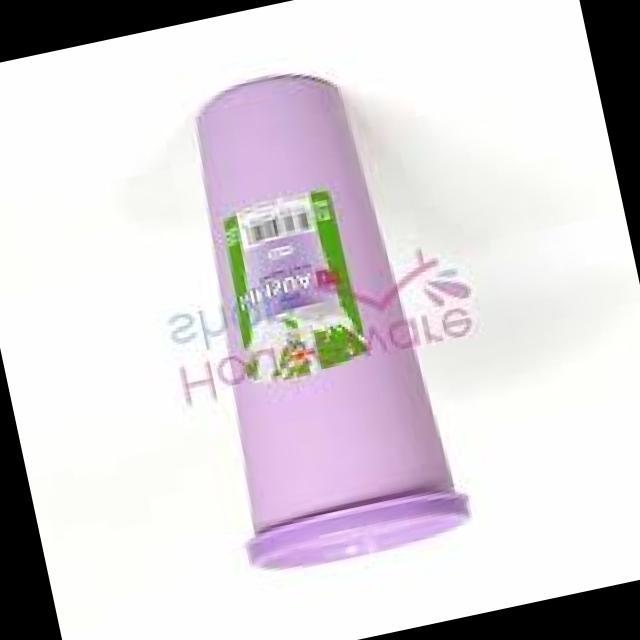good: (86, 21, 512, 604)
